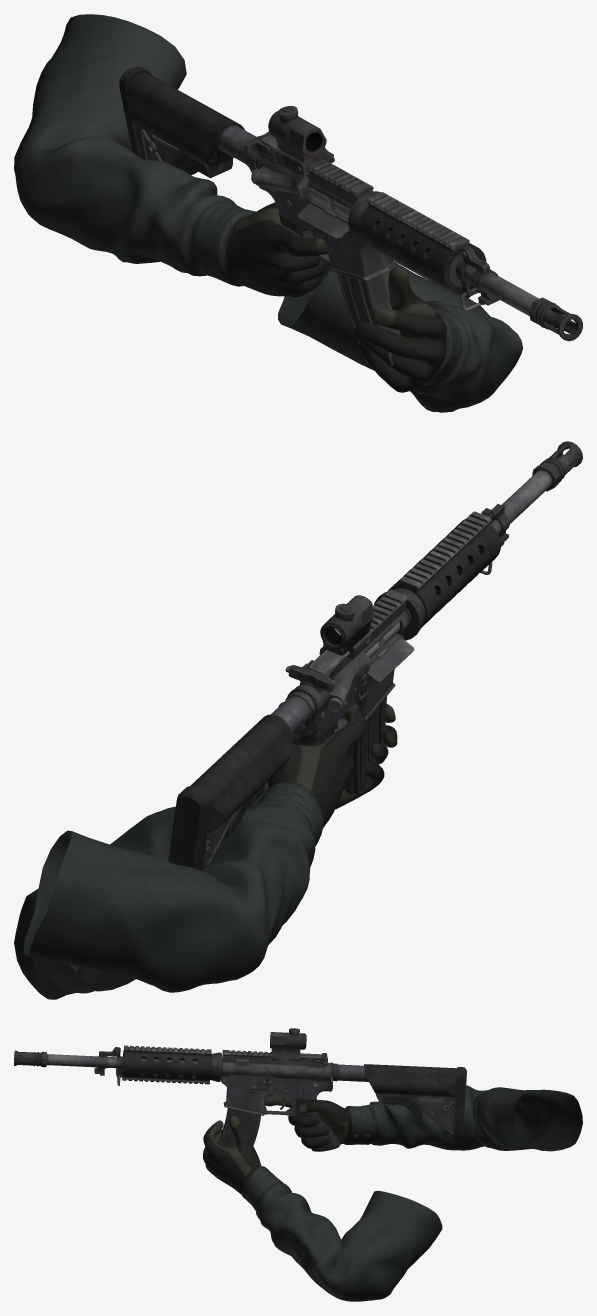
File: carbine_000062.obj
The picture shows the model from 3 angles, top to bottom: view 1: azimuth 30°, elevation 25°; view 2: azimuth 150°, elevation 25°; view 3: azimuth 270°, elevation 25°; orthographic projection. The views are drawn at different scales.
Parts seen in each view (by area): view 1: armmesh_arms_0, base_carbine_0, scope_carbine_0, clip_carbine_0, lid_carbine_0; view 2: armmesh_arms_0, base_carbine_0, scope_carbine_0, clip_carbine_0, lid_carbine_0, handle_carbine_0; view 3: armmesh_arms_0, base_carbine_0, scope_carbine_0, clip_carbine_0.
Part boxes in pixels (x1=…): armmesh_arms_0: x1=14, y1=14, x2=523, y2=412; base_carbine_0: x1=119, y1=66, x2=582, y2=341; scope_carbine_0: x1=268, y1=106, x2=334, y2=175; clip_carbine_0: x1=337, y1=273, x2=400, y2=366; lid_carbine_0: x1=297, y1=203, x2=349, y2=239; armmesh_arms_0: x1=14, y1=703, x2=397, y2=999; base_carbine_0: x1=168, y1=441, x2=582, y2=869; scope_carbine_0: x1=319, y1=595, x2=374, y2=659; clip_carbine_0: x1=343, y1=696, x2=387, y2=795; lid_carbine_0: x1=366, y1=637, x2=414, y2=682; handle_carbine_0: x1=288, y1=660, x2=335, y2=691; armmesh_arms_0: x1=203, y1=1085, x2=582, y2=1301; base_carbine_0: x1=14, y1=1045, x2=466, y2=1151; scope_carbine_0: x1=270, y1=1028, x2=306, y2=1061; clip_carbine_0: x1=218, y1=1108, x2=260, y2=1147.
Size of the model in its own units: 50.11 by 52.11 by 127.
Materials: 3 (3 with a texture image).
